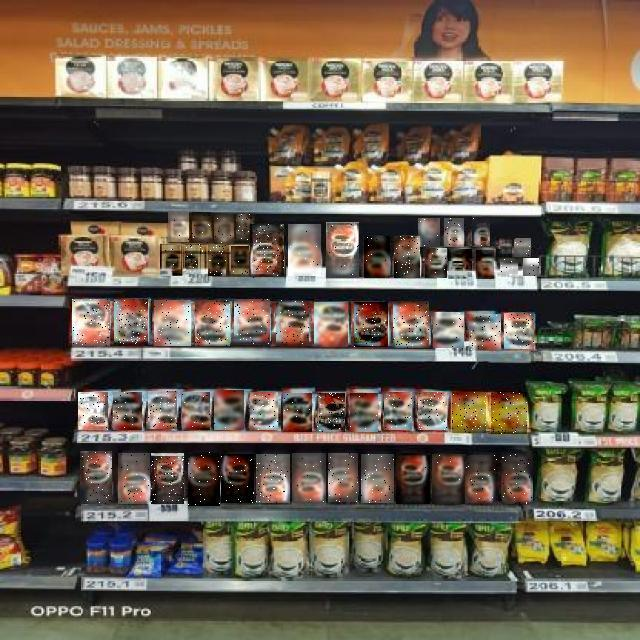Coffee: (326, 222, 359, 278), (250, 224, 284, 278), (73, 299, 111, 346), (292, 453, 326, 505), (396, 453, 430, 504), (188, 452, 220, 506), (288, 224, 321, 276), (154, 300, 191, 346), (432, 454, 466, 504), (80, 451, 112, 504), (393, 301, 429, 348), (151, 453, 184, 504), (256, 454, 290, 503), (118, 453, 150, 504), (235, 299, 271, 344), (221, 454, 254, 503), (361, 454, 394, 503), (195, 300, 230, 346), (466, 455, 498, 505), (502, 453, 533, 504), (114, 300, 148, 346), (354, 302, 388, 347), (314, 302, 348, 347), (276, 300, 309, 346), (491, 392, 527, 434), (328, 454, 358, 504), (452, 392, 486, 433), (214, 390, 244, 430), (78, 393, 108, 431), (283, 393, 312, 432), (433, 312, 464, 348), (469, 315, 500, 351), (148, 391, 177, 429), (113, 393, 142, 431), (418, 393, 447, 431), (364, 236, 390, 278), (395, 236, 421, 278), (350, 393, 378, 432), (317, 393, 345, 432), (504, 313, 534, 349), (182, 392, 210, 430), (250, 392, 278, 430), (385, 393, 413, 431), (160, 244, 183, 276), (448, 249, 472, 279), (425, 248, 447, 278), (418, 218, 440, 247), (168, 212, 189, 242), (214, 214, 234, 244), (192, 212, 211, 243), (445, 218, 465, 247), (208, 244, 226, 276), (472, 216, 490, 247), (186, 244, 204, 274), (477, 250, 495, 279), (231, 246, 249, 274), (237, 214, 253, 243), (514, 238, 531, 257), (496, 238, 512, 257), (523, 259, 539, 277), (500, 260, 518, 276)
